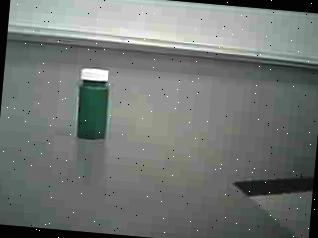Bottle C: (61, 59, 126, 156)
